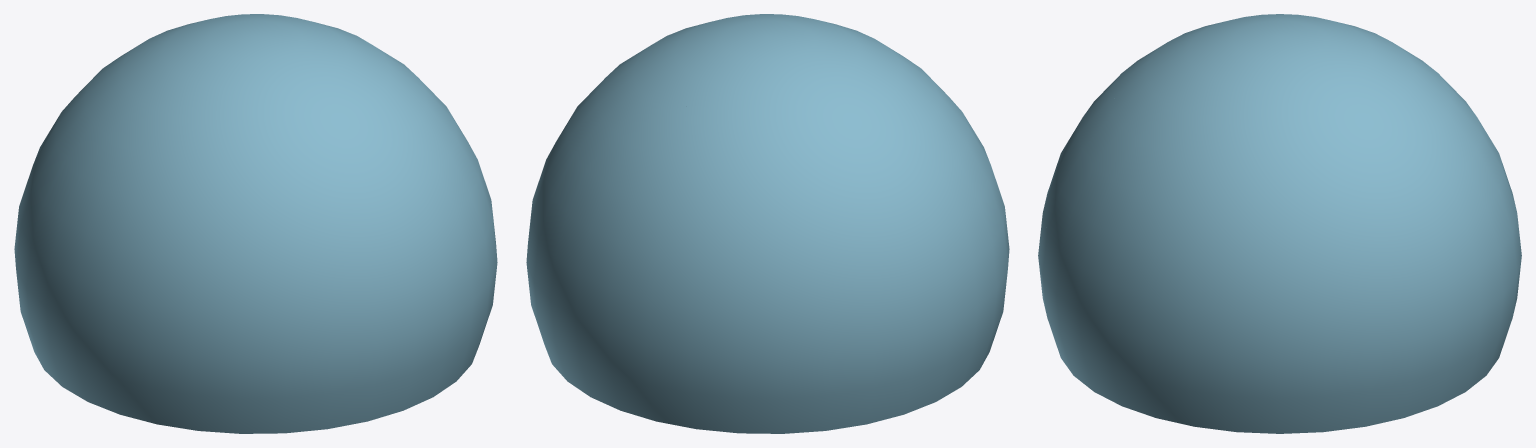
The model's file is snowglobeglass_rootss.fbx.
The picture shows the model from 3 angles, left to right: view 1: azimuth 30°, elevation 25°; view 2: azimuth 150°, elevation 25°; view 3: azimuth 270°, elevation 25°; orthographic projection.
Parts seen in each view (by area): view 1: snowglobeglass_sh_6, snowglobeglass_sh_17, snowglobeglass_sh_14, snowglobeglass_sh_9, snowglobeglass_sh_24, snowglobeglass_sh_1, snowglobeglass_sh_15, snowglobeglass_sh_28, snowglobeglass_sh_11, snowglobeglass_sh_26, snowglobeglass_sh_7, snowglobeglass_sh_21 (+6 smaller); view 2: snowglobeglass_sh_27, snowglobeglass_sh_2, snowglobeglass_sh_15, snowglobeglass_sh_23, snowglobeglass_sh_25, snowglobeglass_sh_3, snowglobeglass_sh_14, snowglobeglass_sh_7, snowglobeglass_sh_11, snowglobeglass_sh_17, snowglobeglass_sh_21, snowglobeglass_sh_13 (+6 smaller); view 3: snowglobeglass_sh_9, snowglobeglass_sh_20, snowglobeglass_sh_16, snowglobeglass_sh_1, snowglobeglass_sh_23, snowglobeglass_sh_10, snowglobeglass_sh_18, snowglobeglass_sh_3, snowglobeglass_sh_5, snowglobeglass_sh_8, snowglobeglass_sh_7, snowglobeglass_sh_13 (+10 smaller).
Boxes of the visible parts, x1,y1,x2,y2 form: snowglobeglass_sh_6: (162, 220, 408, 427); snowglobeglass_sh_17: (43, 279, 334, 433); snowglobeglass_sh_14: (68, 83, 256, 290); snowglobeglass_sh_9: (406, 159, 497, 398); snowglobeglass_sh_24: (204, 102, 377, 247); snowglobeglass_sh_1: (240, 34, 422, 186); snowglobeglass_sh_15: (18, 102, 108, 305); snowglobeglass_sh_28: (375, 127, 474, 310); snowglobeglass_sh_11: (93, 44, 244, 138); snowglobeglass_sh_26: (167, 234, 325, 289); snowglobeglass_sh_7: (170, 14, 311, 71); snowglobeglass_sh_21: (149, 31, 238, 64); snowglobeglass_sh_27: (652, 104, 864, 326); snowglobeglass_sh_2: (733, 302, 972, 433); snowglobeglass_sh_15: (833, 137, 987, 312); snowglobeglass_sh_23: (538, 178, 698, 344); snowglobeglass_sh_25: (586, 302, 737, 432); snowglobeglass_sh_3: (585, 66, 691, 213); snowglobeglass_sh_14: (845, 36, 1001, 255); snowglobeglass_sh_7: (662, 26, 826, 125); snowglobeglass_sh_11: (779, 36, 918, 150); snowglobeglass_sh_17: (960, 195, 1009, 387); snowglobeglass_sh_21: (758, 38, 834, 111); snowglobeglass_sh_13: (563, 71, 646, 178); snowglobeglass_sh_9: (1042, 191, 1207, 402); snowglobeglass_sh_20: (1217, 145, 1412, 363); snowglobeglass_sh_16: (1175, 139, 1336, 344); snowglobeglass_sh_1: (1091, 27, 1271, 155); snowglobeglass_sh_23: (1434, 148, 1519, 331); snowglobeglass_sh_10: (1115, 342, 1307, 433); snowglobeglass_sh_18: (1338, 264, 1457, 413); snowglobeglass_sh_3: (1344, 78, 1484, 186); snowglobeglass_sh_5: (1266, 212, 1436, 383); snowglobeglass_sh_8: (1196, 70, 1348, 146); snowglobeglass_sh_7: (1232, 24, 1417, 95); snowglobeglass_sh_13: (1339, 109, 1450, 213).
Bounding box in the file's own units: 1824 × 1261 × 1824.
